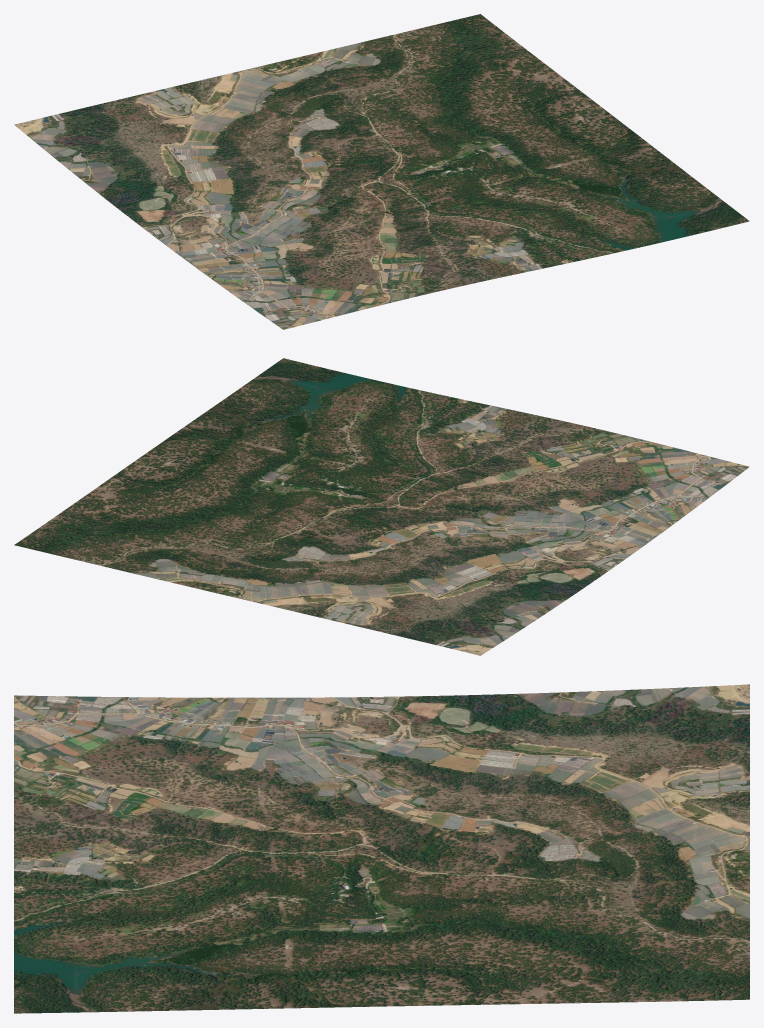
Rendered from terrain_real_T_E00_N03.glb.
3 views of the same model, one above another, from view 1: azimuth 30°, elevation 25°; view 2: azimuth 150°, elevation 25°; view 3: azimuth 270°, elevation 25° (orthographic). The views are drawn at different scales.
Parts seen in each view (by area): view 1: Terrain_Real_DEM_T_E00_N03; view 2: Terrain_Real_DEM_T_E00_N03; view 3: Terrain_Real_DEM_T_E00_N03.
Part boxes in pixels (bbox=[...]): Terrain_Real_DEM_T_E00_N03: bbox=[14, 14, 749, 329]; Terrain_Real_DEM_T_E00_N03: bbox=[14, 358, 749, 655]; Terrain_Real_DEM_T_E00_N03: bbox=[14, 684, 749, 1013].
Size of the model in its own units: 2000 by 54.56 by 2000.
Materials: 1 (1 with a texture image).
